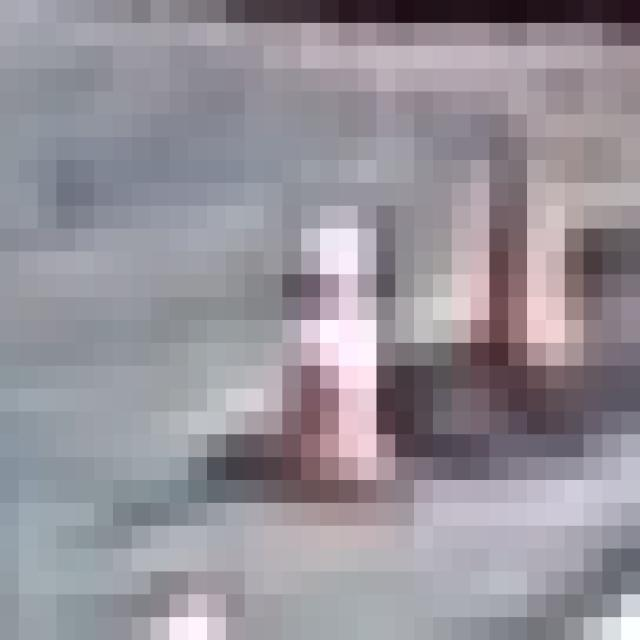small_cone: (235, 116, 414, 508)
